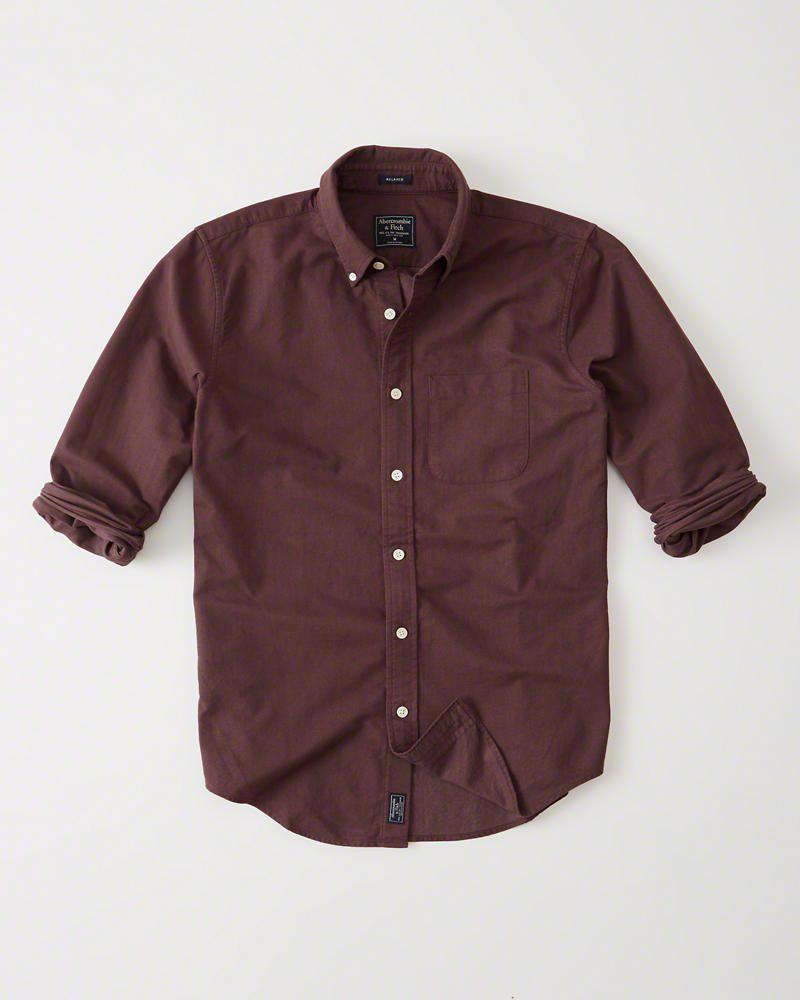teeshirt: (21, 142, 782, 874)
